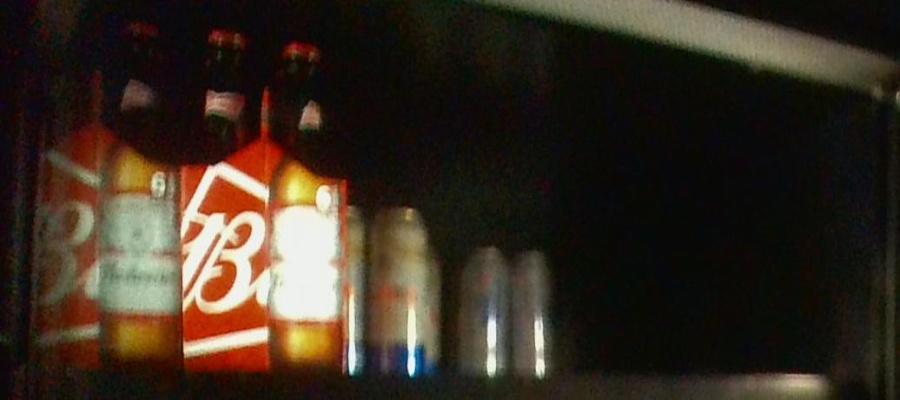bottle: (179, 25, 343, 372), (28, 7, 180, 379), (348, 203, 427, 381), (465, 245, 553, 381), (426, 246, 442, 377)
